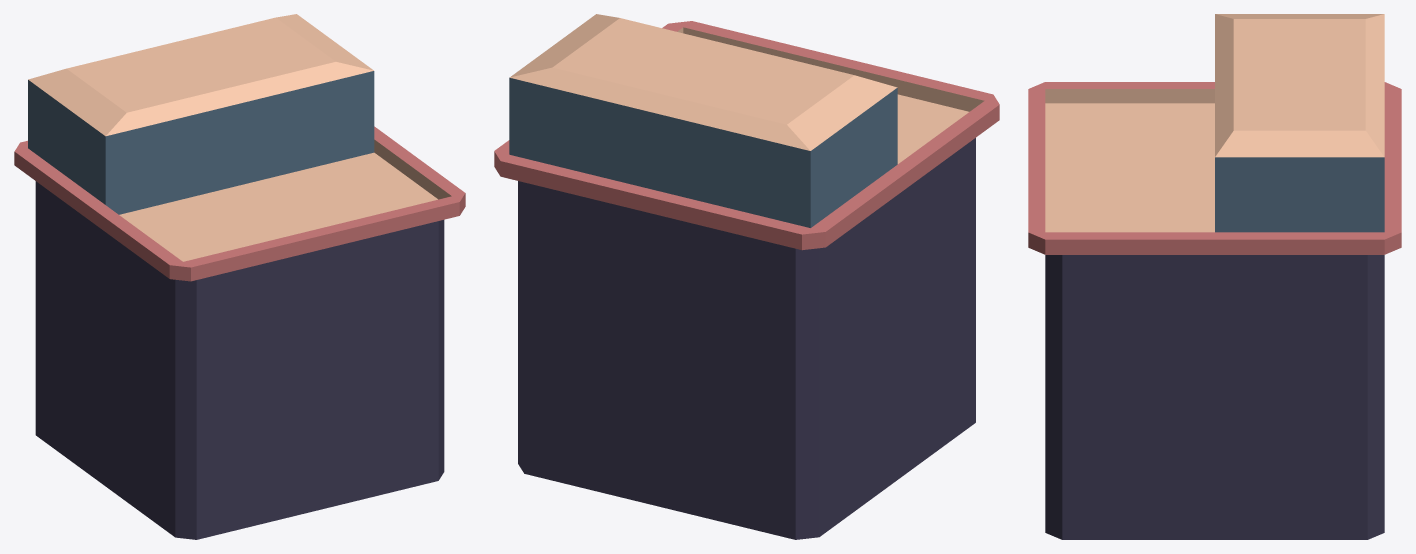
Rendered from ModuloBase01.fbx.
3 views of the same model, side by side, from view 1: azimuth 30°, elevation 25°; view 2: azimuth 150°, elevation 25°; view 3: azimuth 270°, elevation 25° (orthographic). The views are drawn at different scales.
Parts seen in each view (by area): view 1: Cube.009; view 2: Cube.009; view 3: Cube.009.
Boxes of the visible parts, box(x1,y1,x2,y2) form: Cube.009: box(14, 14, 465, 539); Cube.009: box(494, 14, 999, 539); Cube.009: box(1028, 14, 1401, 539).
Bounding box in the file's own units: 220 × 256 × 220.
